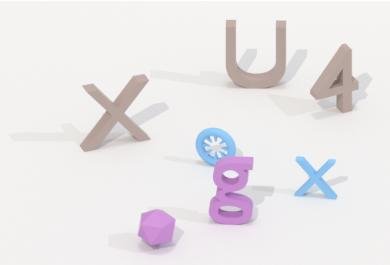0-TronCanh: (133, 204, 178, 250)
0-TronLo: (193, 125, 239, 169)
4: (306, 38, 361, 118)
U: (220, 12, 292, 92)
X: (74, 69, 153, 156), (290, 150, 345, 205)
g: (207, 153, 258, 231)
